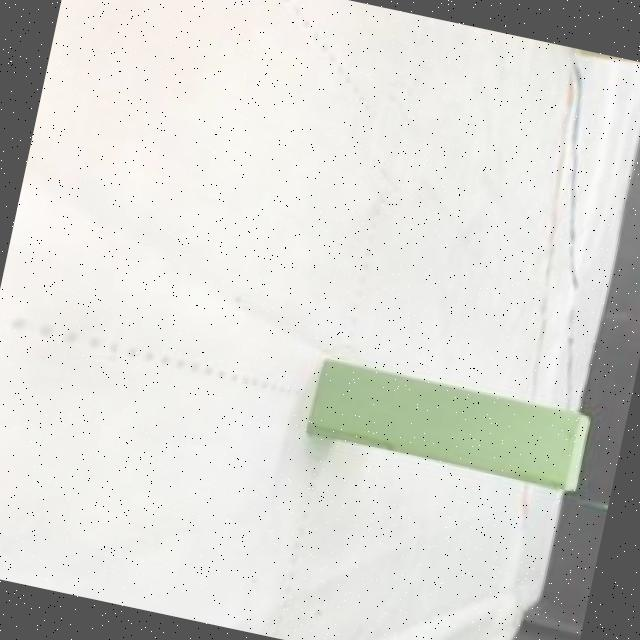greenbox: (303, 354, 594, 494)
